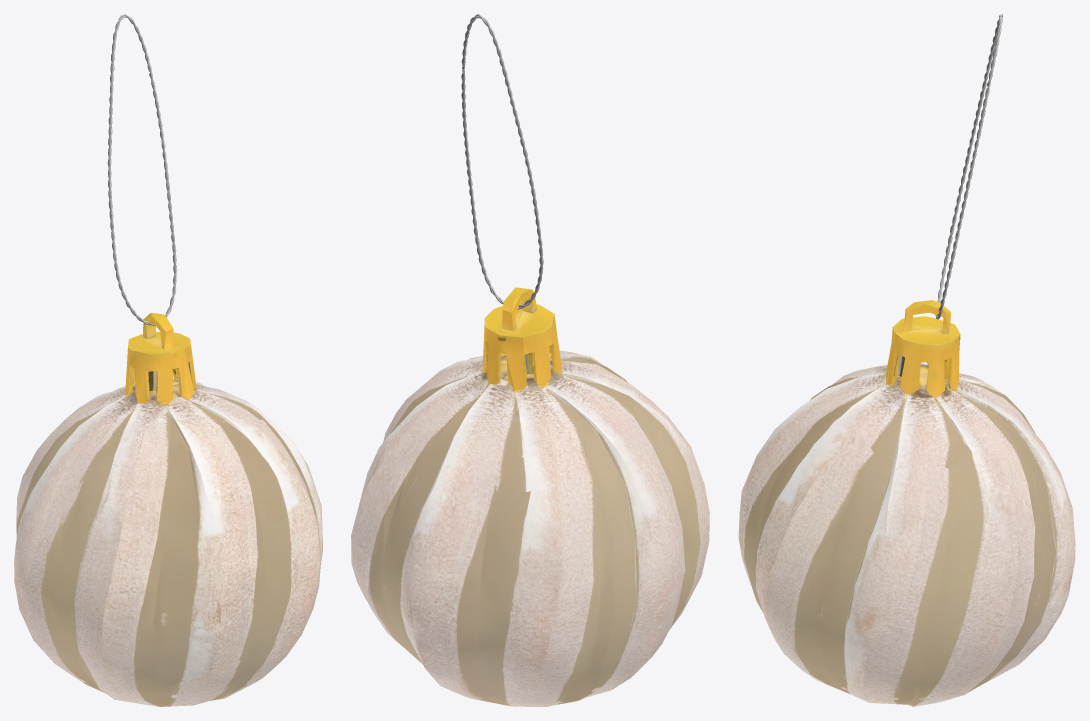
File: Cream_and_Gold_Glitter.glb
The picture shows the model from 3 angles, left to right: view 1: azimuth 30°, elevation 25°; view 2: azimuth 150°, elevation 25°; view 3: azimuth 270°, elevation 25°; orthographic projection. The views are drawn at different scales.
Visible parts, largest first — view 1: Mesh1.0, GN Instance; view 2: Mesh1.0, GN Instance; view 3: Mesh1.0, GN Instance.
Part boxes in pixels (bbox=[...]): Mesh1.0: bbox=[14, 313, 322, 706]; GN Instance: bbox=[107, 14, 177, 325]; Mesh1.0: bbox=[351, 287, 709, 706]; GN Instance: bbox=[461, 14, 543, 309]; Mesh1.0: bbox=[738, 300, 1075, 706]; GN Instance: bbox=[935, 14, 1002, 319].
Bounding box in the file's own units: 0.0507 × 0.1125 × 0.0507.
2 materials, 1 textured.
